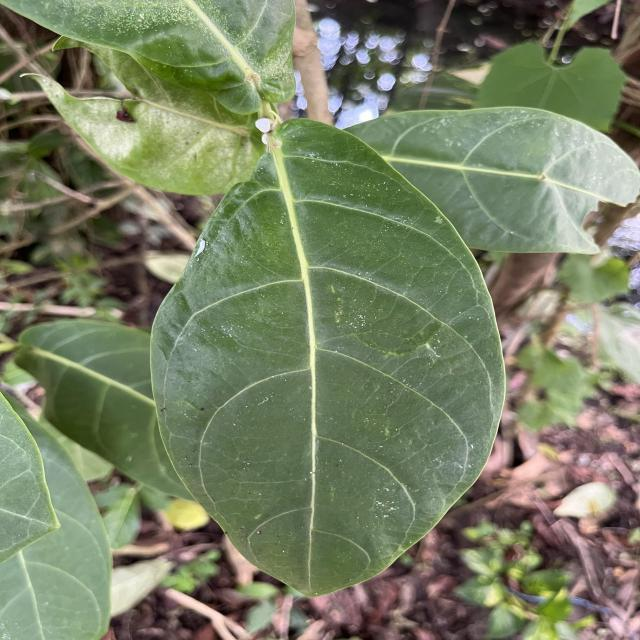Calotropis gigantea: (148, 115, 510, 602), (341, 104, 640, 255)
